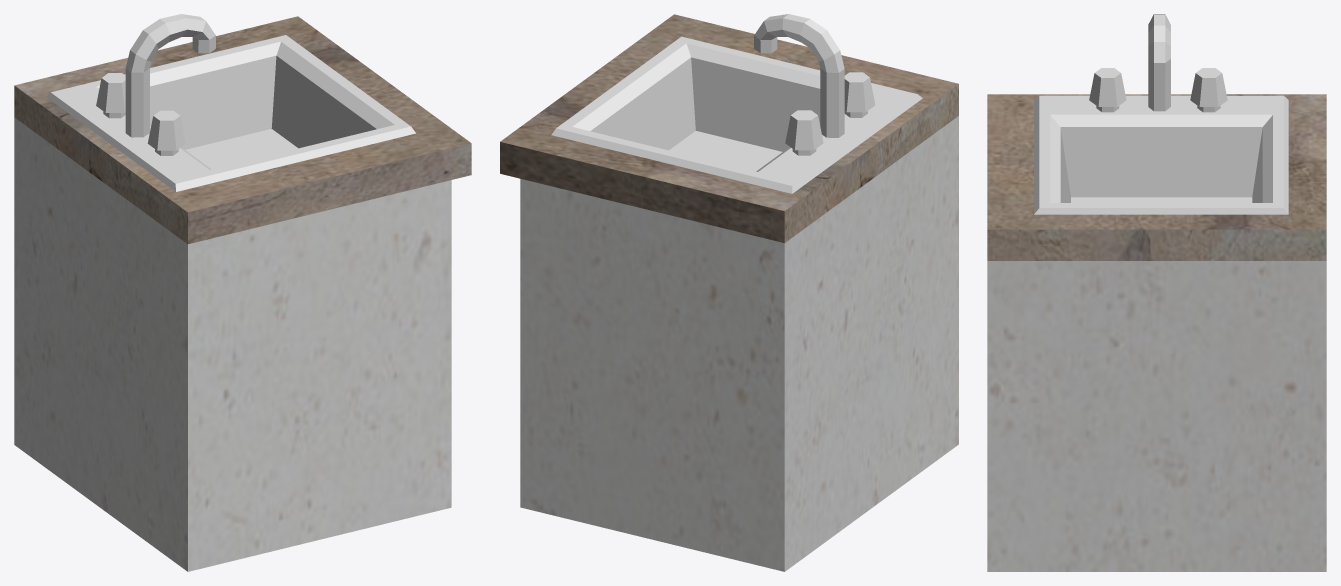
File: lavamanos.fbx
3 views of the same model, side by side, from view 1: azimuth 30°, elevation 25°; view 2: azimuth 150°, elevation 25°; view 3: azimuth 270°, elevation 25° (orthographic). The views are drawn at different scales.
Visible parts, largest first — view 1: Base_lavamanos; view 2: Base_lavamanos; view 3: Base_lavamanos.
Boxes of the visible parts, x1,y1,x2,y2 form: Base_lavamanos: [14, 14, 471, 571]; Base_lavamanos: [500, 14, 958, 571]; Base_lavamanos: [987, 14, 1326, 571].
Size of the model in its own units: 142 by 225 by 150.
